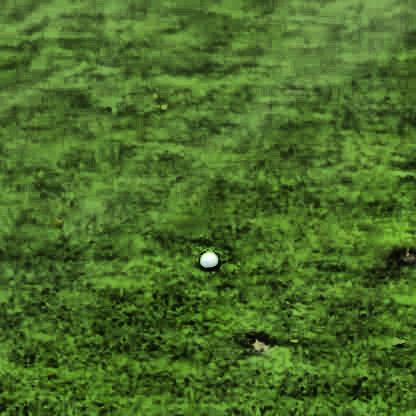golfball: (198, 253, 216, 266)
